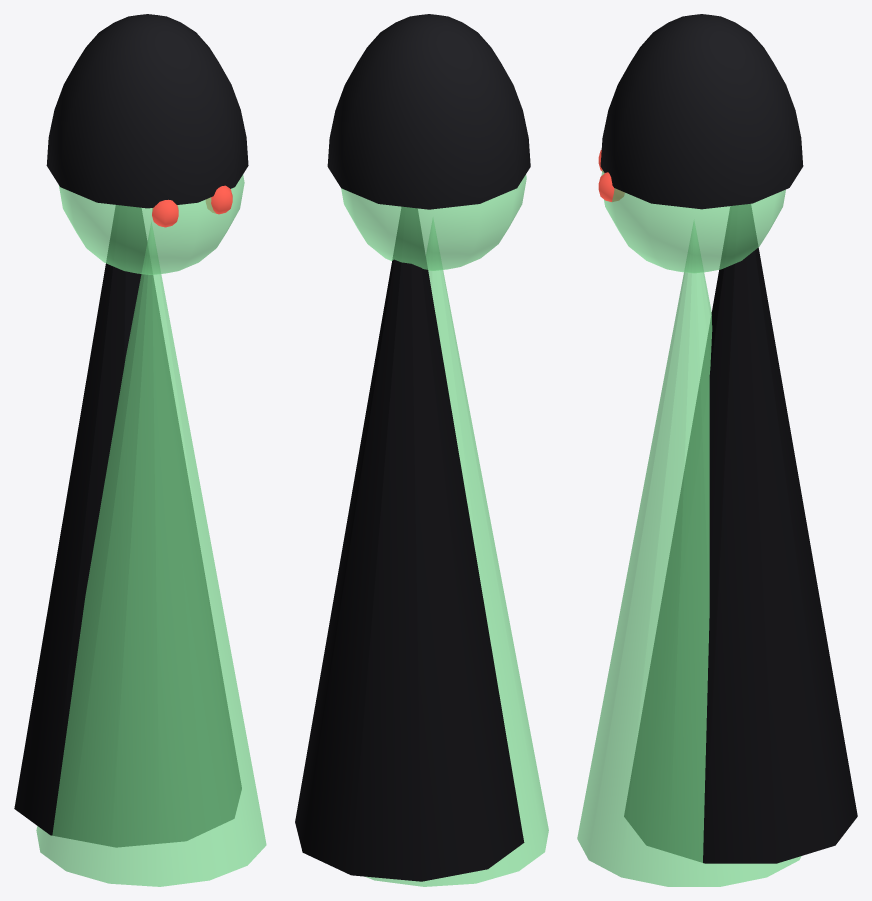
The model's file is takian.glb.
The picture shows the model from 3 angles, left to right: view 1: azimuth 30°, elevation 25°; view 2: azimuth 150°, elevation 25°; view 3: azimuth 270°, elevation 25°; orthographic projection.
Size of the model in its own units: 0.585 by 2.32 by 0.72.
